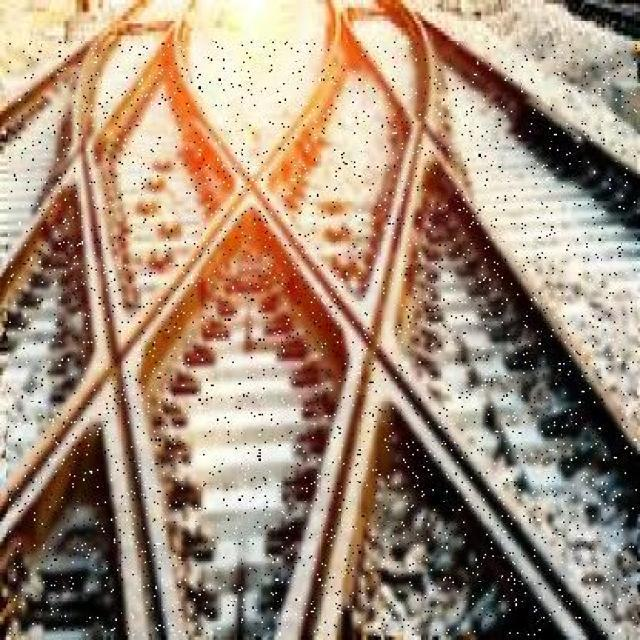rail: (8, 39, 637, 636)
